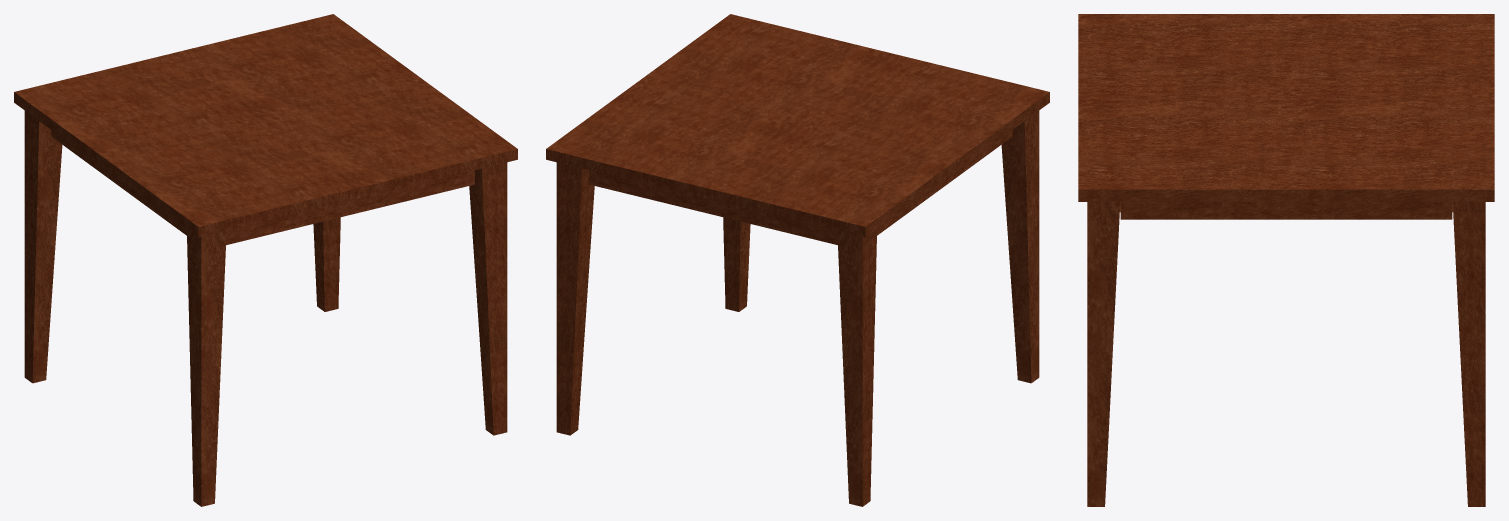
File: Table1.fbx
The picture shows the model from 3 angles, left to right: view 1: azimuth 30°, elevation 25°; view 2: azimuth 150°, elevation 25°; view 3: azimuth 270°, elevation 25°; orthographic projection. The views are drawn at different scales.
Parts seen in each view (by area): view 1: Empty_Mesh; view 2: Empty_Mesh; view 3: Empty_Mesh.
Part boxes in pixels (x1,y1,x2,y2): Empty_Mesh: (14,14,517,506); Empty_Mesh: (546,14,1049,506); Empty_Mesh: (1078,14,1494,506).
Size of the model in its own units: 94 by 80 by 94.
